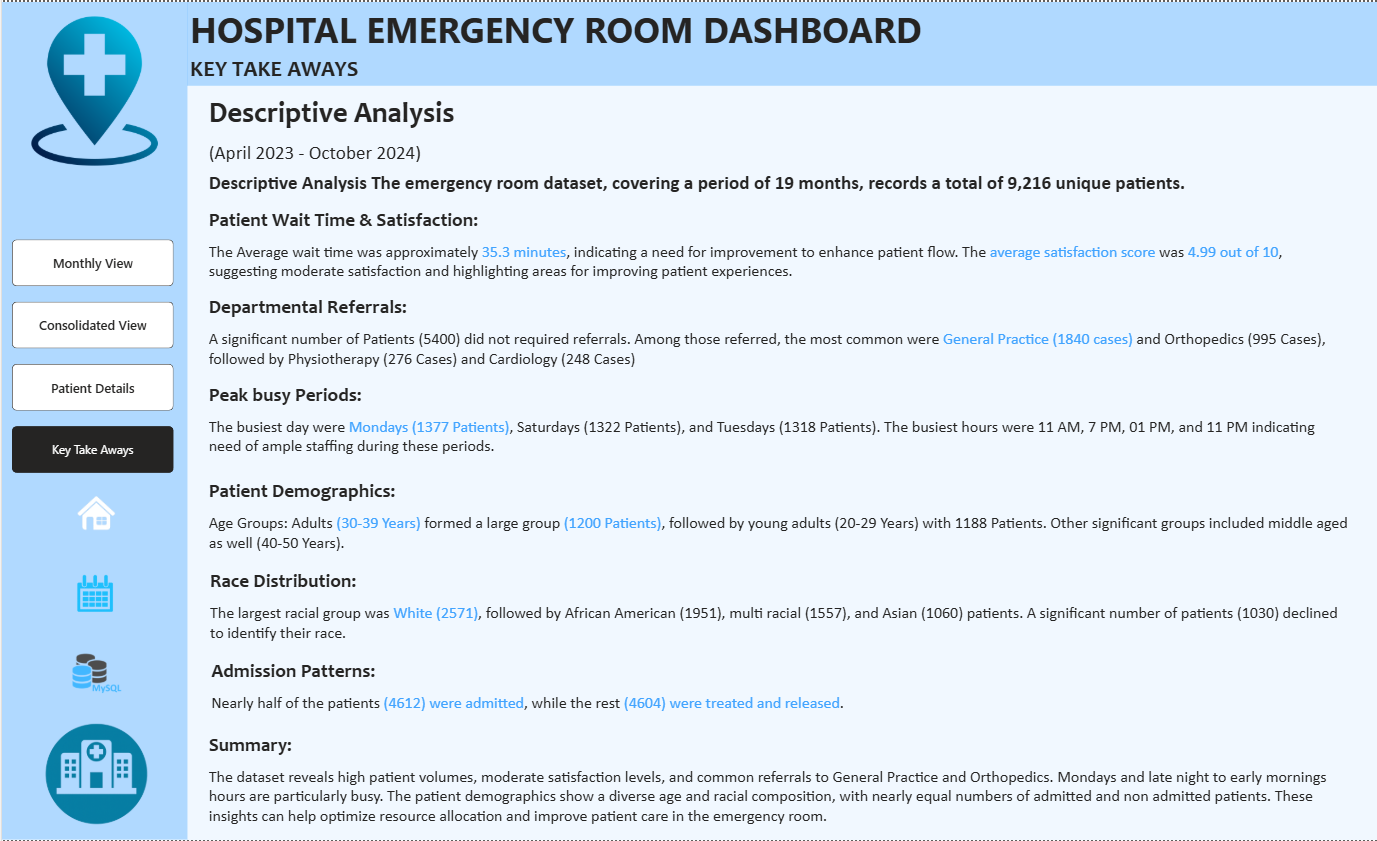

What the dashboard file says about the page in this screenshot:
{"tool":"powerbi","page":{"name":"Key Take Aways","canvas":[2300,1400],"ordinal":3},"visuals":[{"type":"shape","box":[0,0,310,1400],"z":0},{"type":"shape","box":[309.5,0,1990.5,140],"z":1000},{"type":"textbox","box":[310,0,1246.6,112.1],"z":2000},{"type":"textbox","box":[310,83.5,373.7,57.2],"z":3000},{"type":"image","box":[0,19.8,310,260],"z":4000},{"type":"textbox","box":[340.8,149.5,1013.5,136.3],"z":5000},{"type":"textbox","box":[340.8,278.7,1800.6,66],"z":6000},{"type":"textbox","box":[340.8,337.5,1917.1,153.9],"z":7000},{"type":"textbox","box":[340.8,484.2,1914.9,153.9],"z":8000},{"type":"textbox","box":[340.8,631,1917.1,167.1],"z":9000},{"type":"textbox","box":[340.8,790.9,1914.9,158.3],"z":10000},{"type":"textbox","box":[343,942.1,1914.9,158.3],"z":11000},{"type":"textbox","box":[345.2,1093.2,1912.7,129.7],"z":12000},{"type":"image","box":[83.5,809,145.1,101.1],"z":13000},{"type":"textbox","box":[340.8,1215.3,1917.1,184.7],"z":14000},{"type":"pageNavigator","box":[17.6,397.9,270.4,391.3],"z":15000},{"type":"image","box":[76.9,919,156.1,142.9],"z":16000},{"type":"image","box":[107.7,1081.7,98.9,79.1],"z":17000},{"type":"actionButton","box":[105.5,811.2,98.9,79.1],"z":18000},{"type":"actionButton","box":[105.5,946.8,98.9,79.1],"z":19000},{"type":"actionButton","box":[105.5,1082.4,98.9,79.1],"z":20000},{"type":"image","box":[52.8,1182.3,211.1,217.7],"z":21000}]}

Visuals, with their boxes on the page's 2300x1400 design canvas (x1, y1, x2, y2). These are canvas units, not pixel positions in the 1377x841 screenshot, which may show the page scaled, cropped or inside an application window:
shape: left=0, top=0, right=310, bottom=1400
shape: left=310, top=0, right=2300, bottom=140
textbox: left=310, top=0, right=1557, bottom=112
textbox: left=310, top=84, right=684, bottom=141
image: left=0, top=20, right=310, bottom=280
textbox: left=341, top=150, right=1354, bottom=286
textbox: left=341, top=279, right=2141, bottom=345
textbox: left=341, top=338, right=2258, bottom=491
textbox: left=341, top=484, right=2256, bottom=638
textbox: left=341, top=631, right=2258, bottom=798
textbox: left=341, top=791, right=2256, bottom=949
textbox: left=343, top=942, right=2258, bottom=1100
textbox: left=345, top=1093, right=2258, bottom=1223
image: left=84, top=809, right=229, bottom=910
textbox: left=341, top=1215, right=2258, bottom=1400
pageNavigator: left=18, top=398, right=288, bottom=789
image: left=77, top=919, right=233, bottom=1062
image: left=108, top=1082, right=207, bottom=1161
actionButton: left=106, top=811, right=204, bottom=890
actionButton: left=106, top=947, right=204, bottom=1026
actionButton: left=106, top=1082, right=204, bottom=1162
image: left=53, top=1182, right=264, bottom=1400
